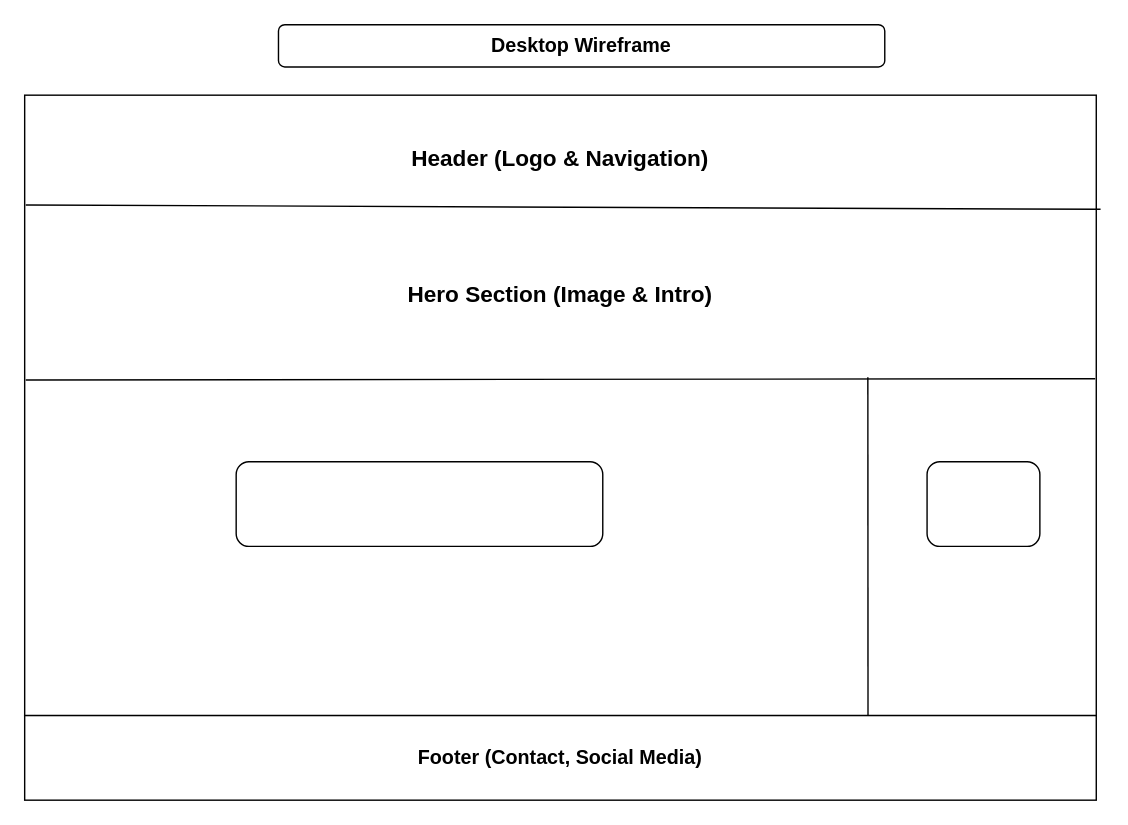
Image size: 1128x825. Some labels were removed from this diagram. Here are the shapes that lost their labels. From the top down, the centre of each, then its label:
At pixel 419 503: "Main content (About, Events, Membership)".
At pixel 983 503: "Sidebar".
